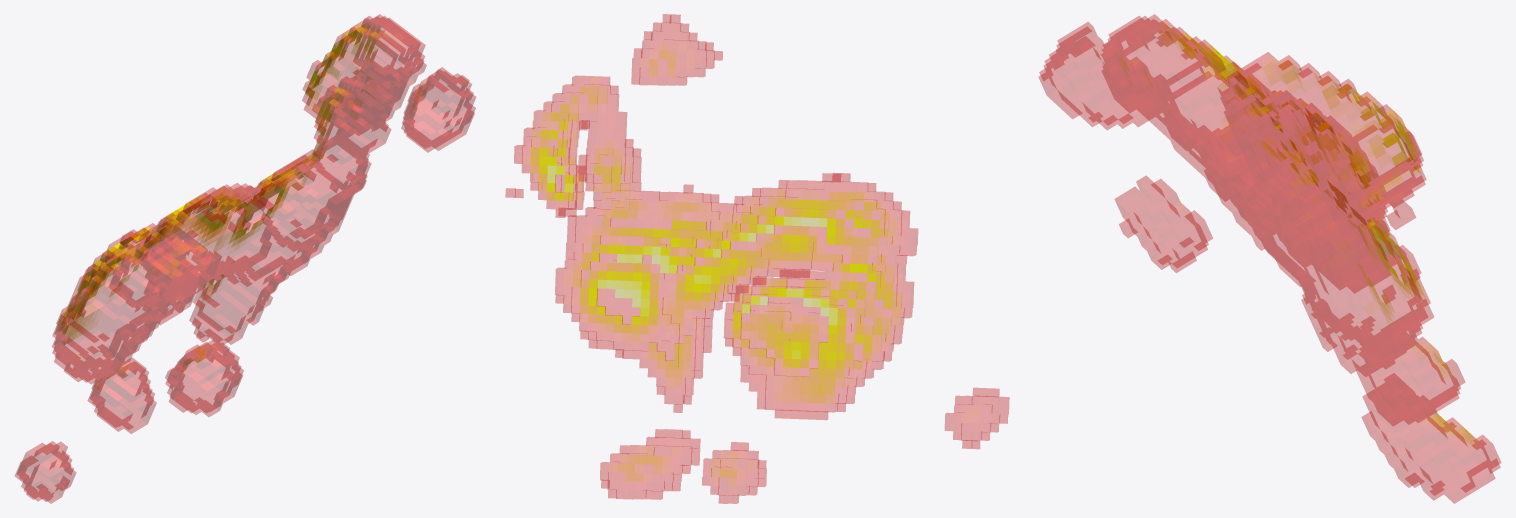
File: nlos.glb
The picture shows the model from 3 angles, left to right: view 1: azimuth 30°, elevation 25°; view 2: azimuth 150°, elevation 25°; view 3: azimuth 270°, elevation 25°; orthographic projection. The views are drawn at different scales.
Visible parts, largest first — view 1: obj1; view 2: obj1; view 3: obj1.
Part boxes in pixels (x1,y1,x2,y2): obj1: [15, 14, 475, 503]; obj1: [505, 14, 1009, 503]; obj1: [1038, 14, 1501, 503].
Size of the model in its own units: 54.77 by 47.32 by 37.57.
